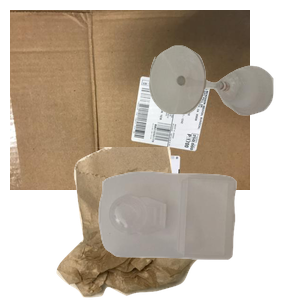cardboard: (10, 10, 250, 190)
glass: (147, 43, 300, 151)
plastic: (96, 169, 300, 300)
trash: (54, 147, 271, 300)
